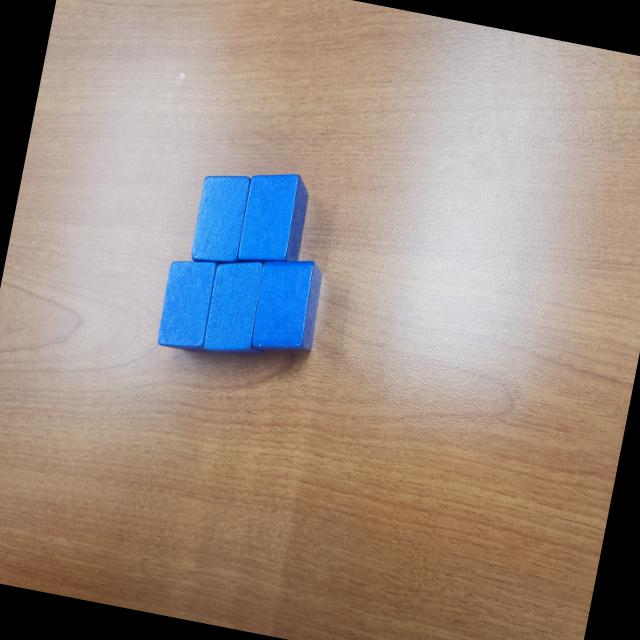blue: (247, 252, 328, 360), (200, 253, 281, 361), (234, 166, 314, 272), (154, 253, 223, 354), (188, 170, 254, 270)
